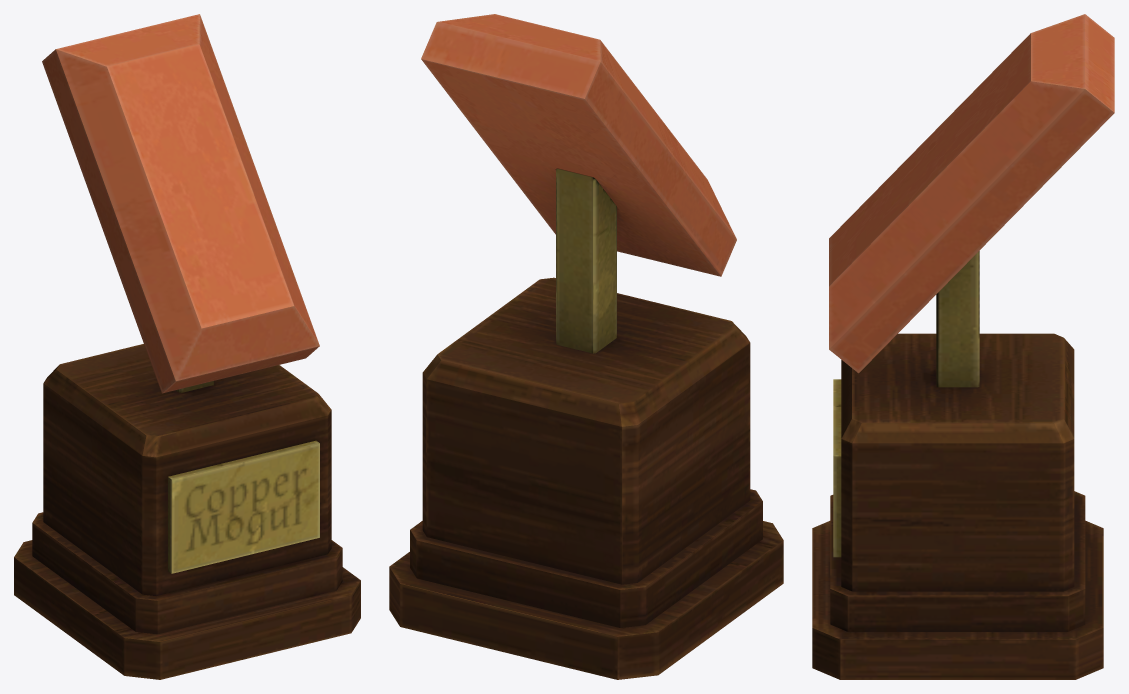
The model's file is Trophy_CopperMogul.glb.
3 renders of one model, left to right at view 1: azimuth 30°, elevation 25°; view 2: azimuth 150°, elevation 25°; view 3: azimuth 270°, elevation 25°, orthographic. The views are drawn at different scales.
Visible parts, largest first — view 1: Trophy_CopperMogul; view 2: Trophy_CopperMogul; view 3: Trophy_CopperMogul.
Part boxes in pixels (left/top/right/bottom): Trophy_CopperMogul: left=14, top=14, right=360, bottom=679; Trophy_CopperMogul: left=389, top=14, right=783, bottom=679; Trophy_CopperMogul: left=812, top=14, right=1114, bottom=679.
Bounding box in the file's own units: 0.3151 × 0.6763 × 0.3271.
1 material, 1 textured.
